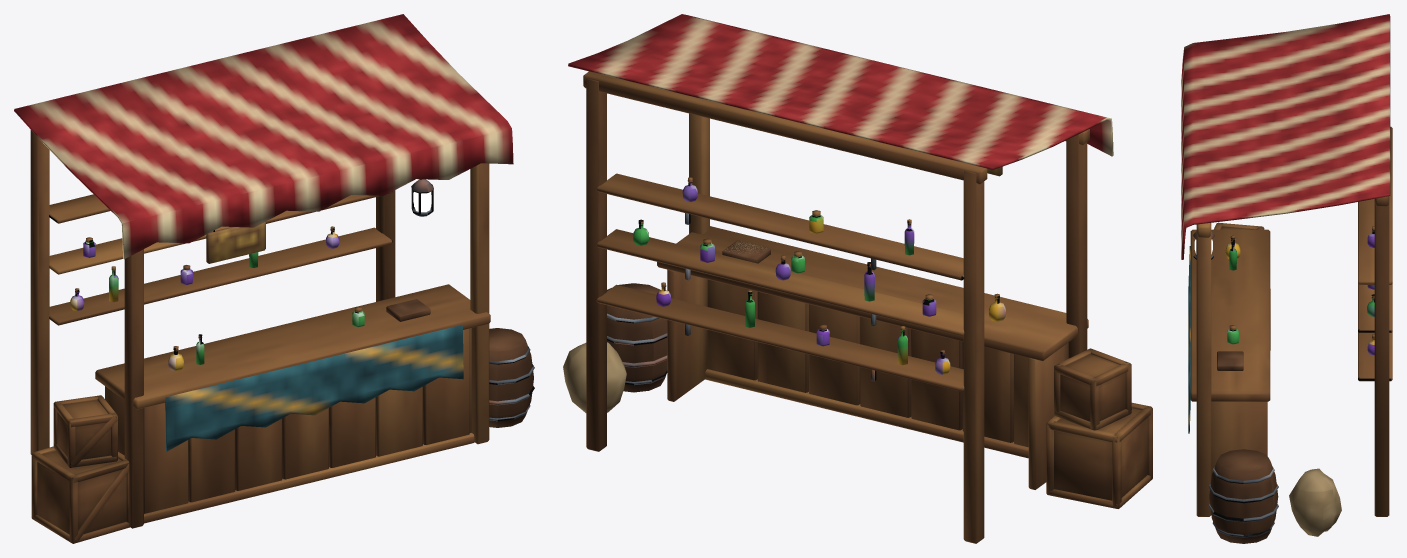
The model's file is MerchantStall.fbx.
3 renders of one model, left to right at view 1: azimuth 30°, elevation 25°; view 2: azimuth 150°, elevation 25°; view 3: azimuth 270°, elevation 25°, orthographic. The views are drawn at different scales.
Visible parts, largest first — view 1: MerchantStall; view 2: MerchantStall; view 3: MerchantStall.
Boxes of the visible parts, box(x1,y1,x2,y2) form: MerchantStall: box(14, 14, 534, 543); MerchantStall: box(563, 14, 1152, 543); MerchantStall: box(1181, 14, 1392, 543).
Bounding box in the file's own units: 4.01 × 2.75 × 1.59.
